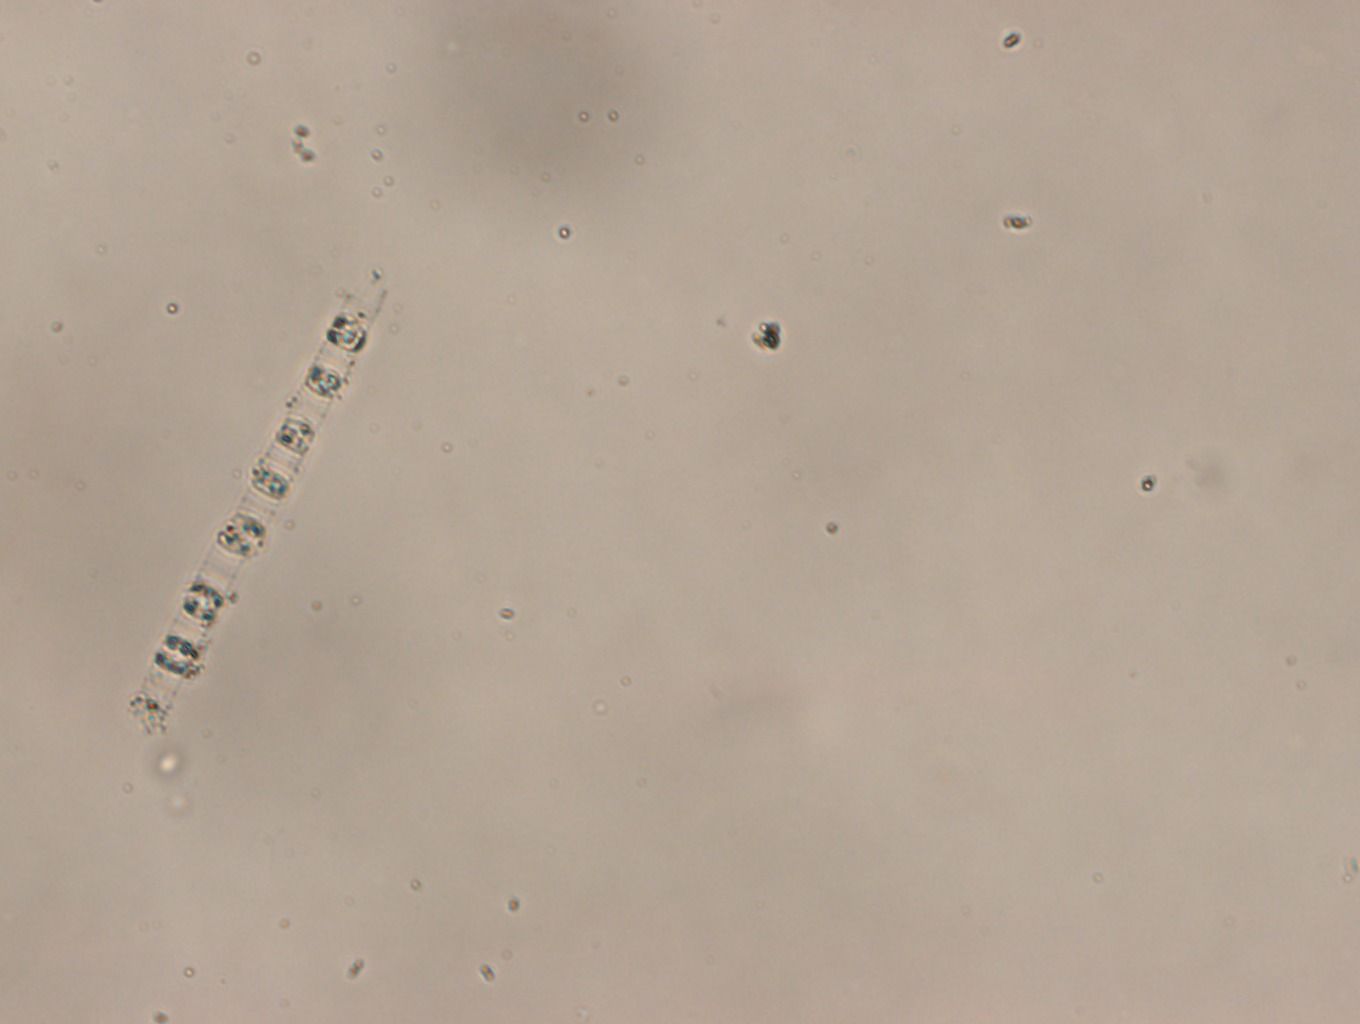skeletonema: (126, 284, 388, 729)
